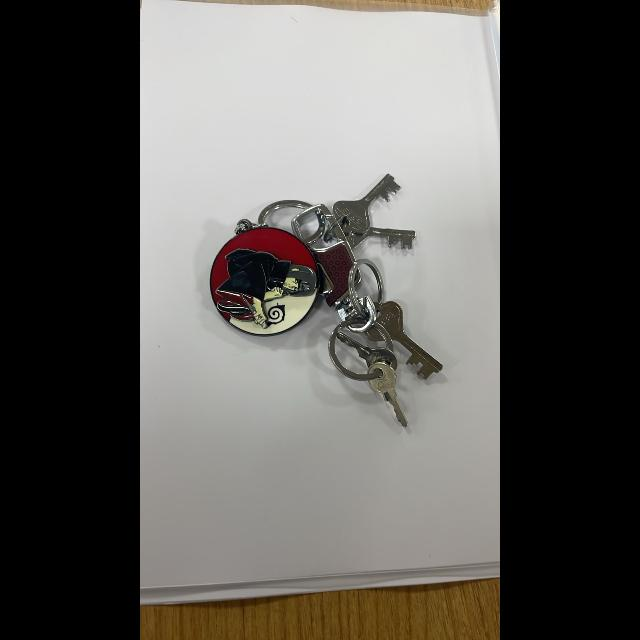keys: (207, 162, 448, 434)
